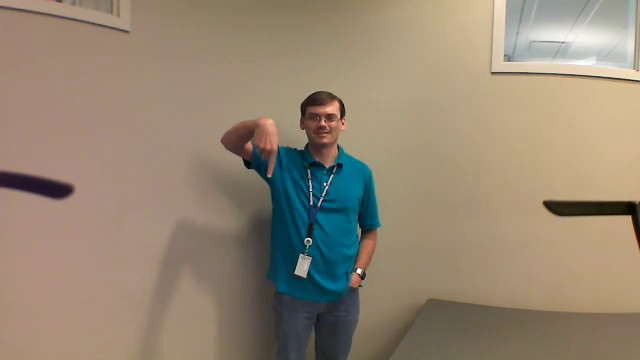down: (239, 106, 288, 189)
